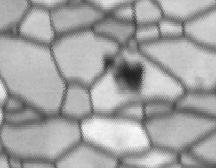good_void: (104, 55, 146, 96)
